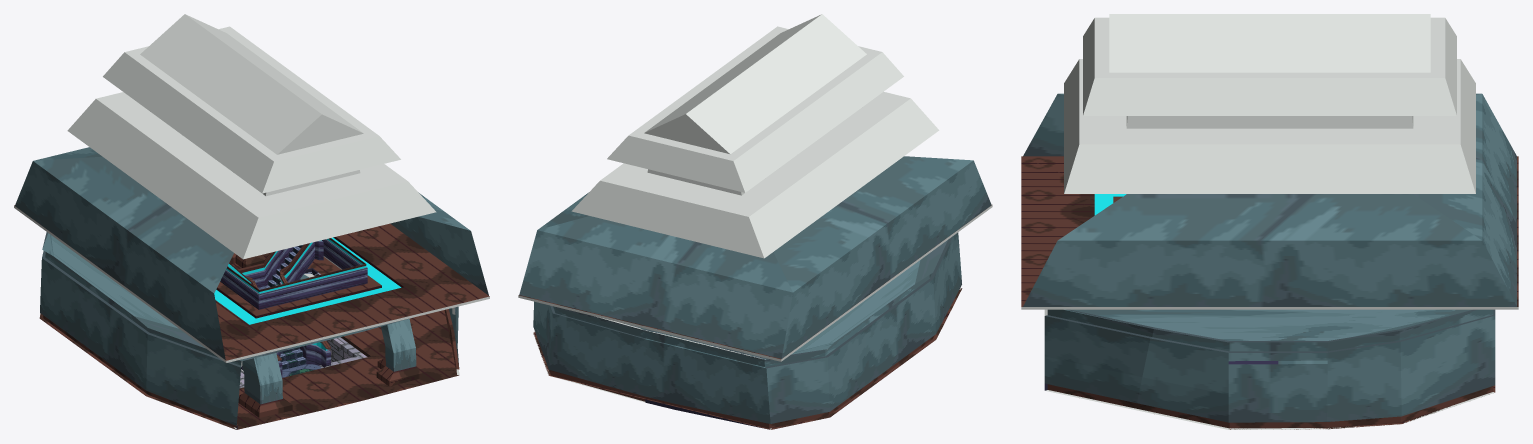
Rendered from CENARIO - HALL CENTRAL.fbx.
The picture shows the model from 3 angles, left to right: view 1: azimuth 30°, elevation 25°; view 2: azimuth 150°, elevation 25°; view 3: azimuth 270°, elevation 25°; orthographic projection. The views are drawn at different scales.
Parts seen in each view (by area): view 1: Cube; view 2: Cube; view 3: Cube.
Boxes of the visible parts, box(x1,y1,x2,y2) form: Cube: box(14, 14, 489, 429); Cube: box(518, 14, 992, 429); Cube: box(1021, 14, 1518, 429).
Bounding box in the file's own units: 17988 × 15862 × 20331.
Materials: 8 (6 with a texture image).
